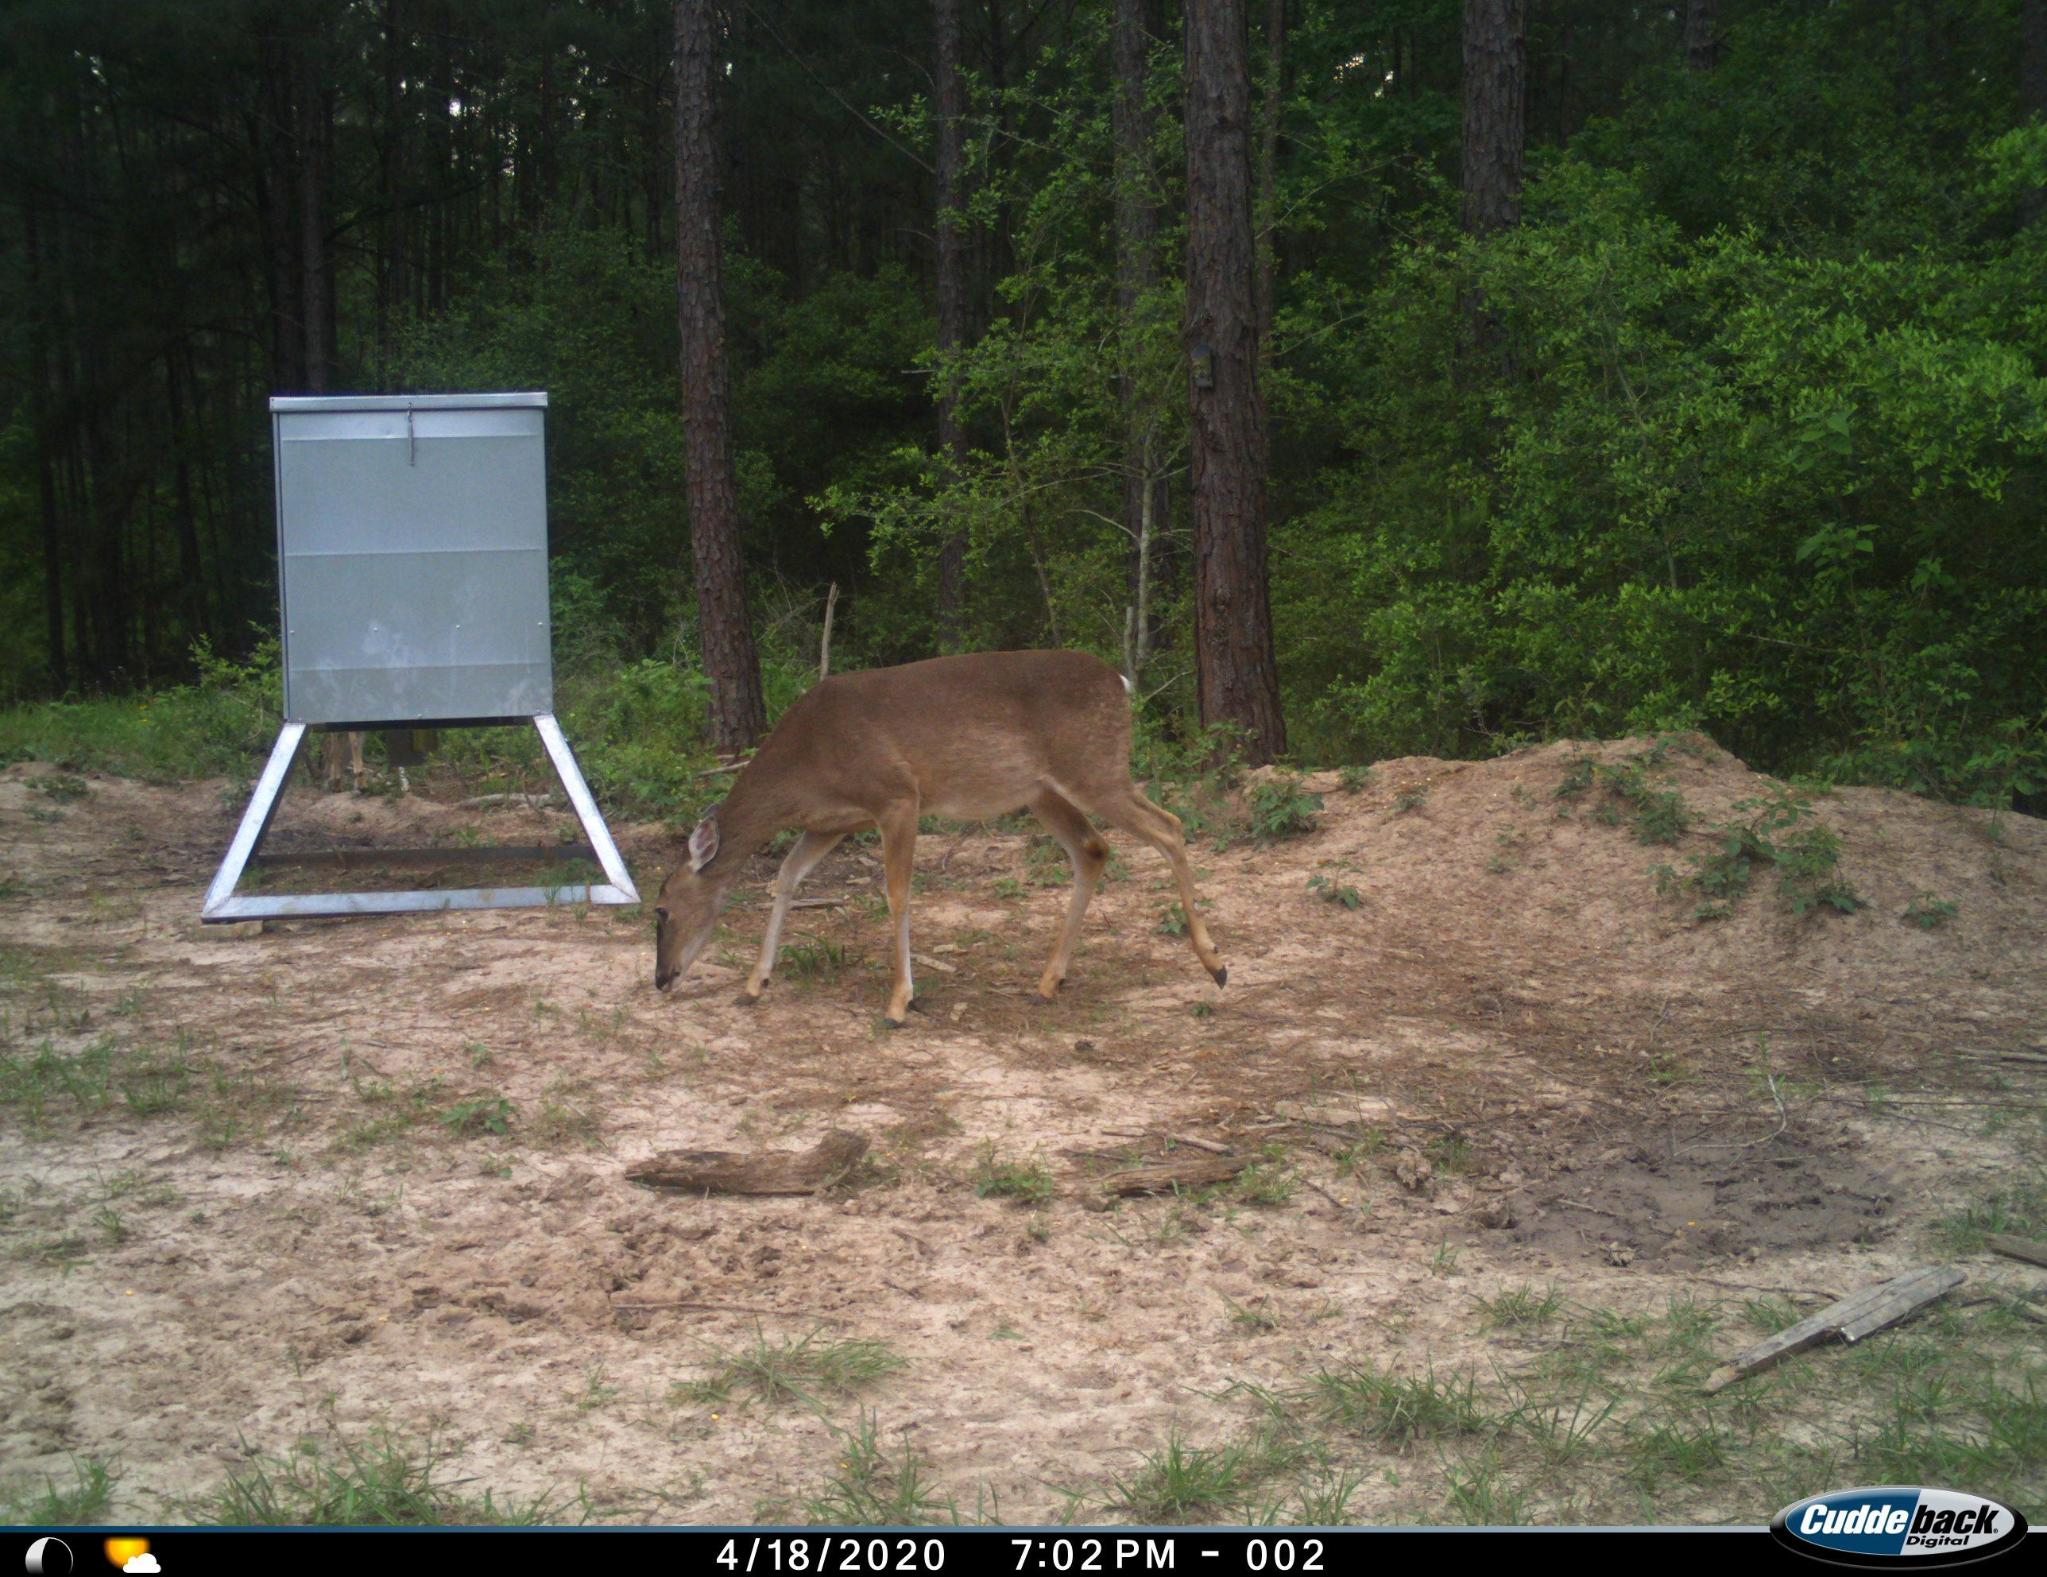Deer: (633, 636, 1272, 1042)
